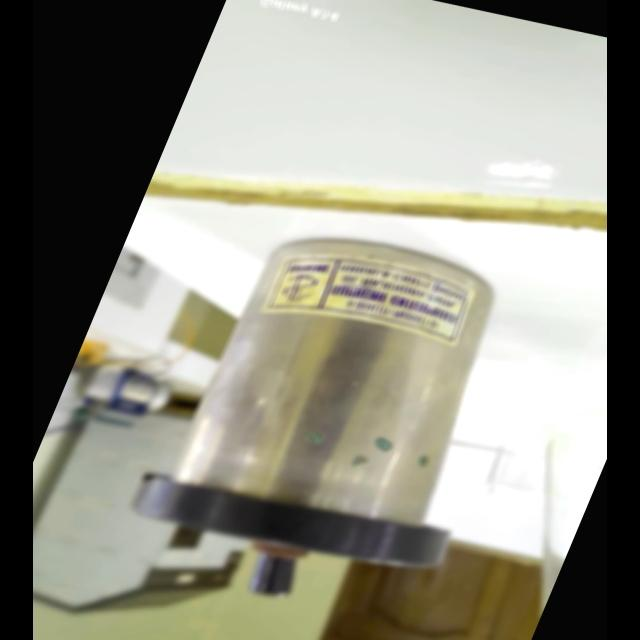Calorimeter: (91, 215, 571, 639)
